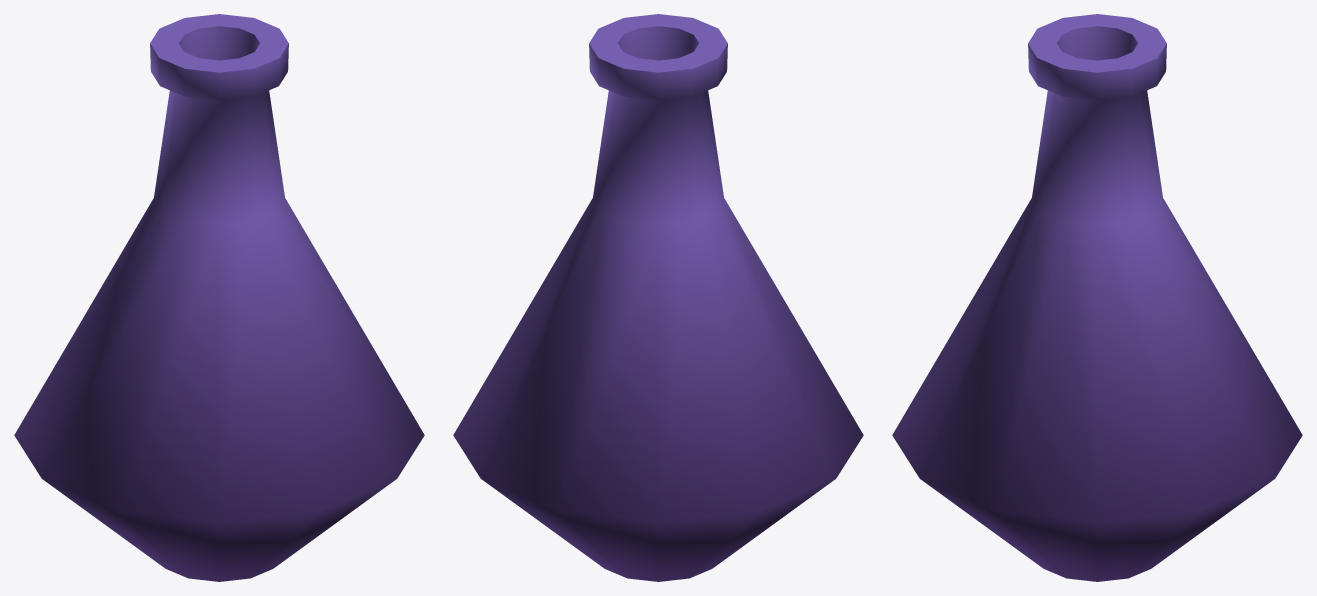
Rendered from PotionBottleOpaque5.fbx.
3 views of the same model, side by side, from view 1: azimuth 30°, elevation 25°; view 2: azimuth 150°, elevation 25°; view 3: azimuth 270°, elevation 25° (orthographic).
Visible parts, largest first — view 1: PotionBottleOpaque5; view 2: PotionBottleOpaque5; view 3: PotionBottleOpaque5.
Boxes of the visible parts, x1,y1,x2,y2 form: PotionBottleOpaque5: (14, 14, 424, 581); PotionBottleOpaque5: (453, 14, 863, 581); PotionBottleOpaque5: (892, 14, 1302, 581).
Bounding box in the file's own units: 12.08 × 16.64 × 12.08.
